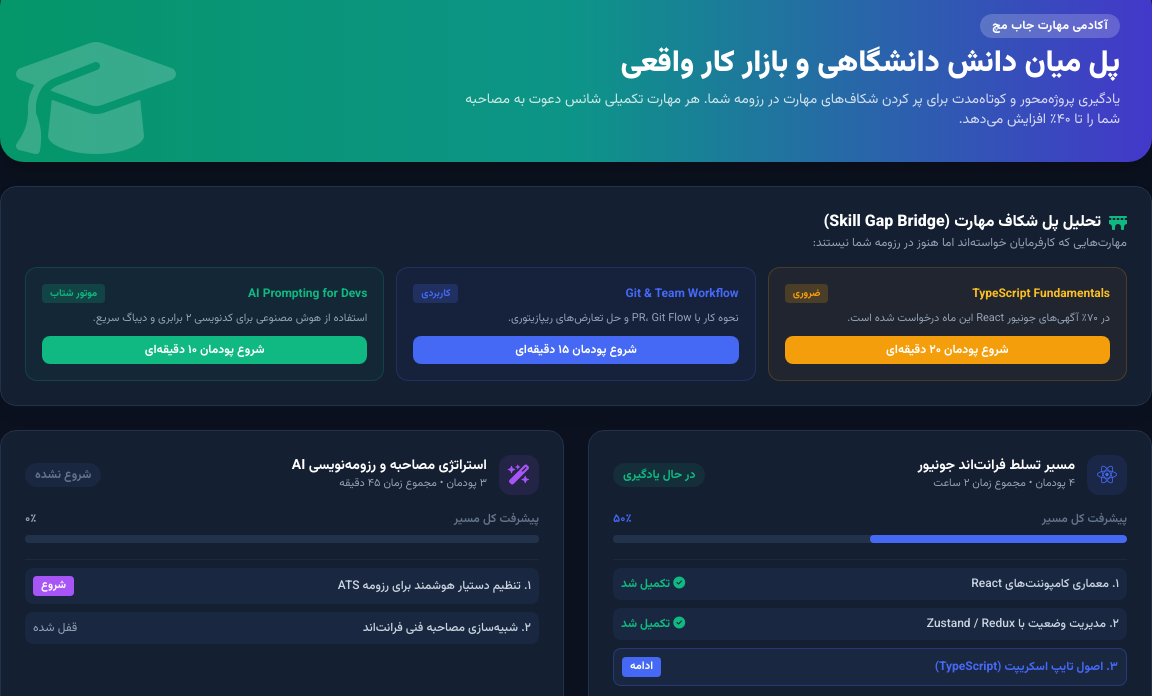
Test: Academy lessons › checks answers without verifying or adding a resume skill
This screenshot has width=1152, height=696.
Click the button "شروع پودمان ۲۰ دقیقه‌ای": (947, 350) [785,336,1110,364]
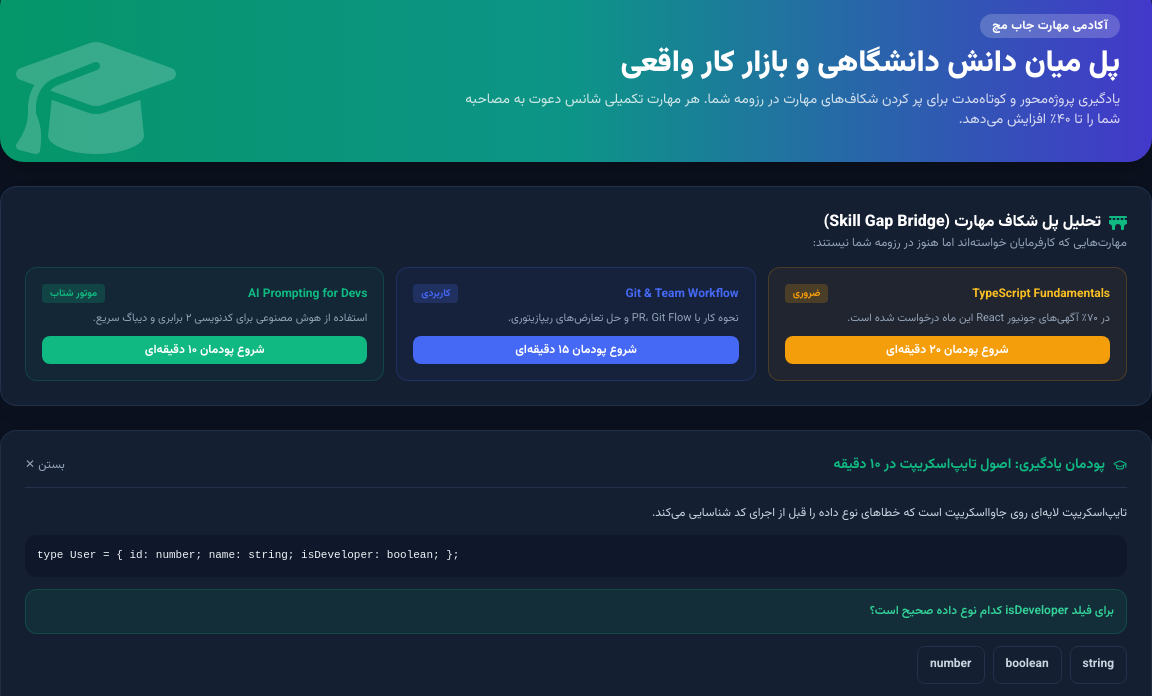
Click the button "string": (1098, 665) [1070,646,1127,684]
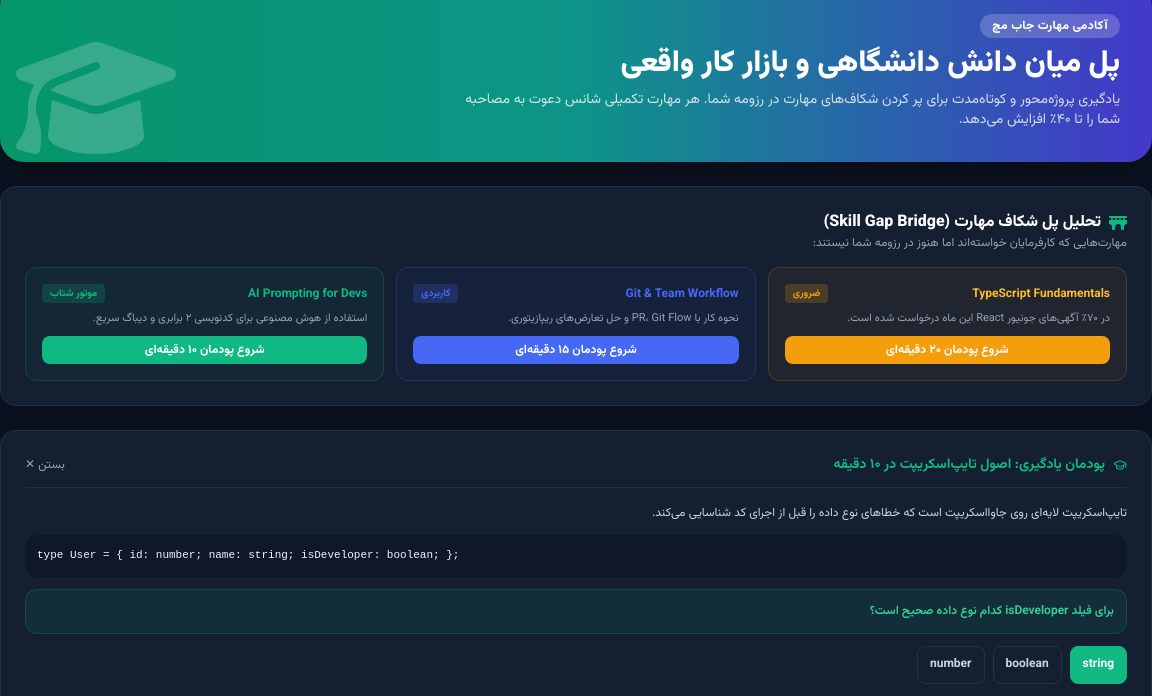
Click the button "boolean": (1027, 665) [992,646,1062,684]
(page scrolled)
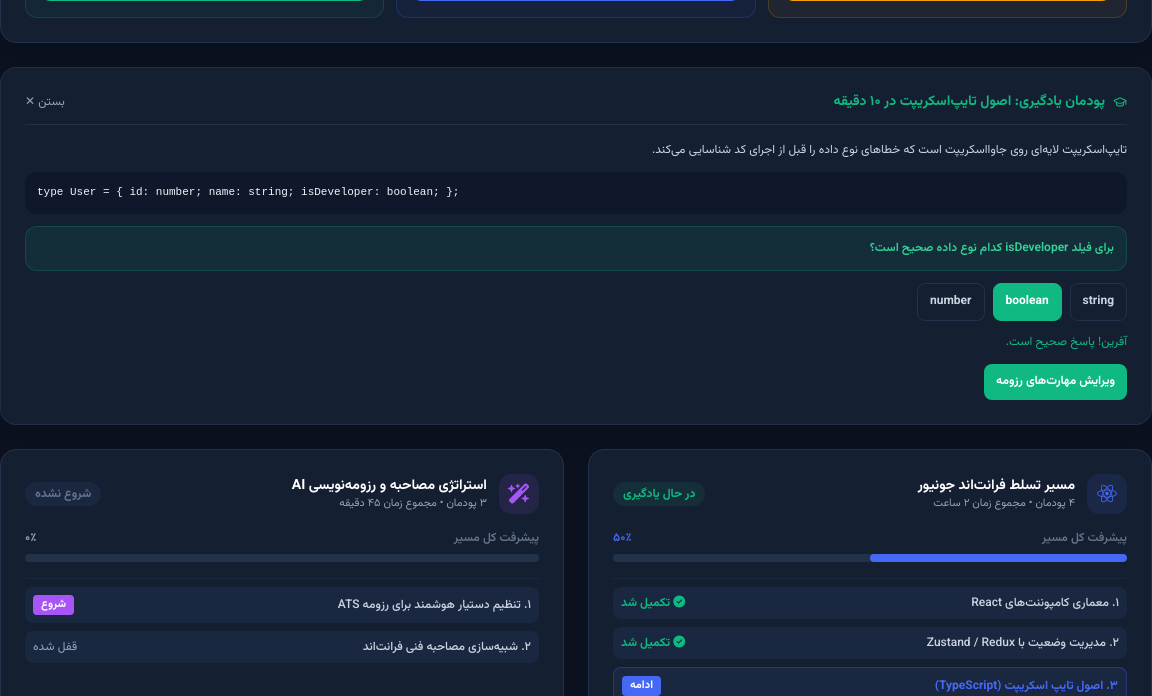
Result: the message shows "پاسخ صحیح" at [1006,333,1127,351]
